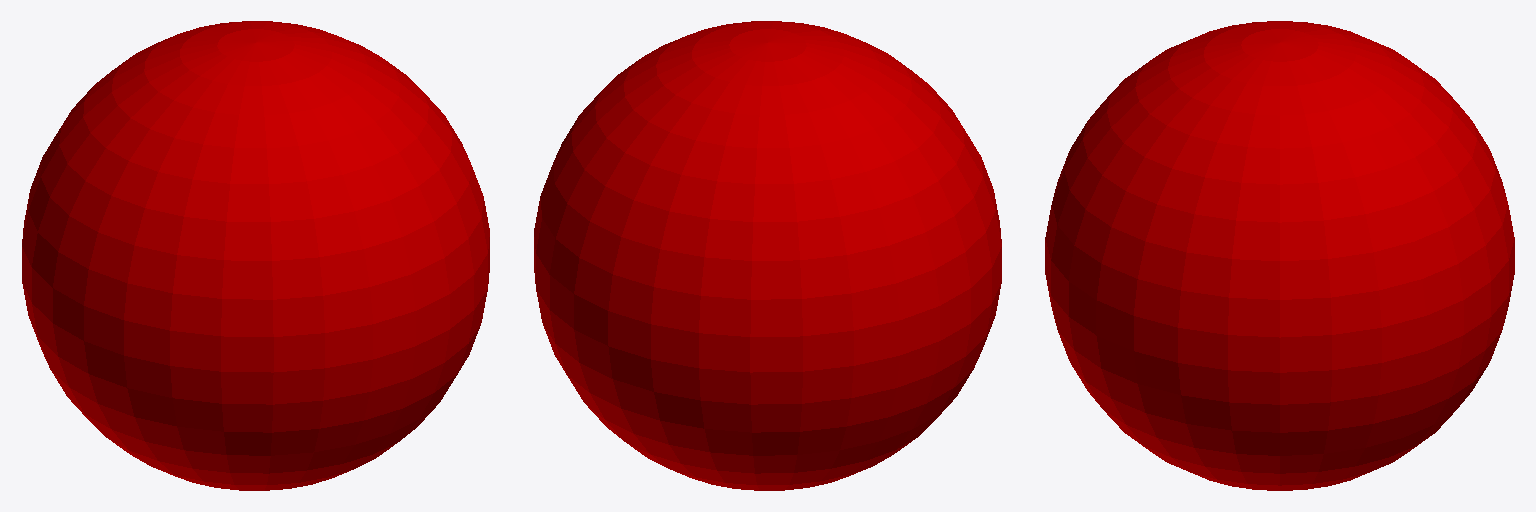
The model's file is fireball.obj.
3 renders of one model, left to right at view 1: azimuth 30°, elevation 25°; view 2: azimuth 150°, elevation 25°; view 3: azimuth 270°, elevation 25°, orthographic.
Parts seen in each view (by area): view 1: Sphere; view 2: Sphere; view 3: Sphere.
Boxes of the visible parts, x1=… form: Sphere: x1=22, y1=21, x2=489, y2=490; Sphere: x1=534, y1=21, x2=1001, y2=490; Sphere: x1=1045, y1=21, x2=1514, y2=490.
Bounding box in the file's own units: 39.86 × 40 × 39.86.